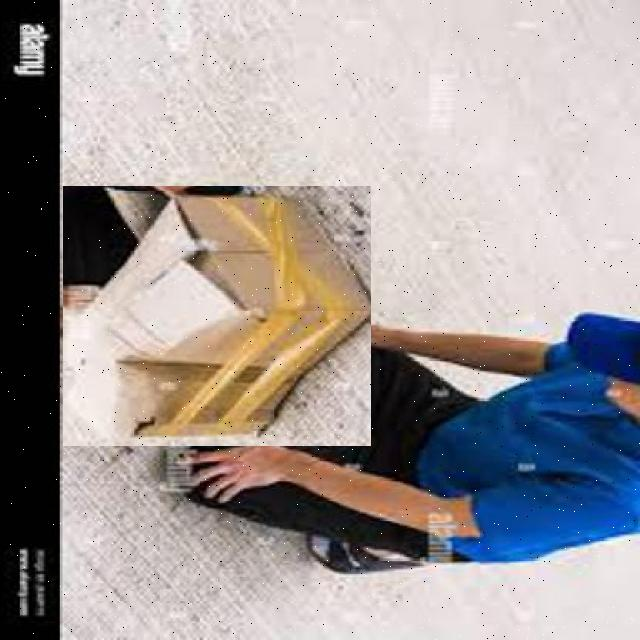defect: (62, 186, 370, 446)
